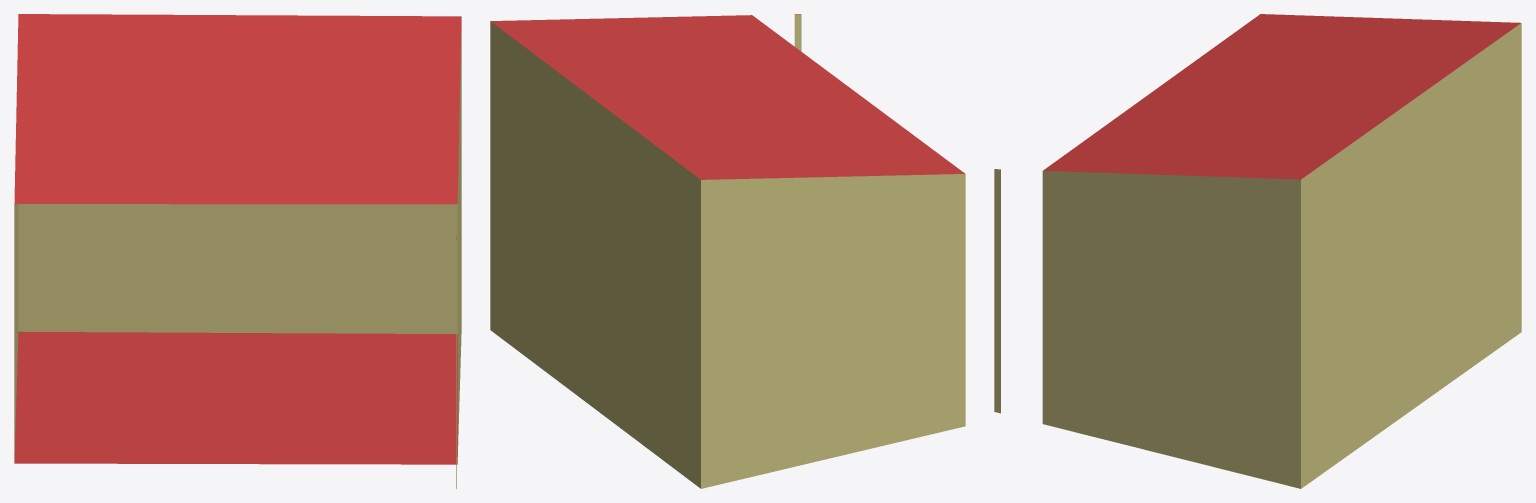
The picture shows the model from 3 angles, left to right: view 1: azimuth 30°, elevation 25°; view 2: azimuth 150°, elevation 25°; view 3: azimuth 270°, elevation 25°; orthographic projection. The views are drawn at different scales.
Parts seen in each view (by area): view 1: group_3, group_4, group_5; view 2: group_4, group_3; view 3: group_4, group_3.
Boxes of the visible parts, x1,y1,x2,y2 form: group_3: (14, 14, 461, 239); group_4: (14, 17, 461, 488); group_5: (14, 331, 457, 464); group_4: (490, 14, 965, 488); group_3: (490, 14, 965, 179); group_4: (994, 23, 1521, 488); group_3: (995, 14, 1520, 179).
Size of the model in its own units: 10.96 by 10.99 by 7.12.
